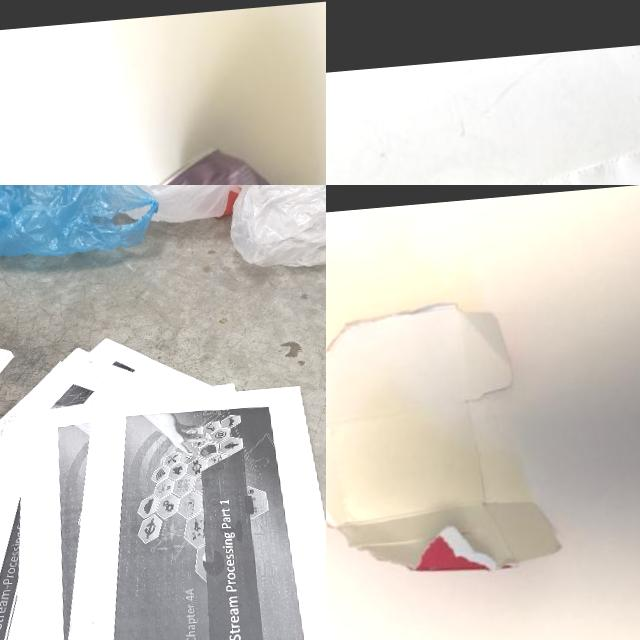lata: (143, 134, 326, 185)
papel: (0, 317, 326, 640), (326, 294, 566, 587), (326, 99, 640, 185)
sacola plástica: (0, 185, 164, 259), (226, 185, 326, 273), (104, 185, 298, 226)
